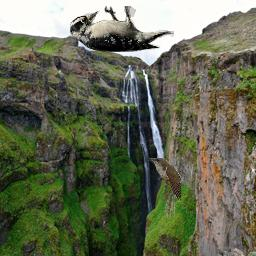Cuckoo: (148, 157, 181, 218)
Woodpecker: (70, 6, 174, 52)
